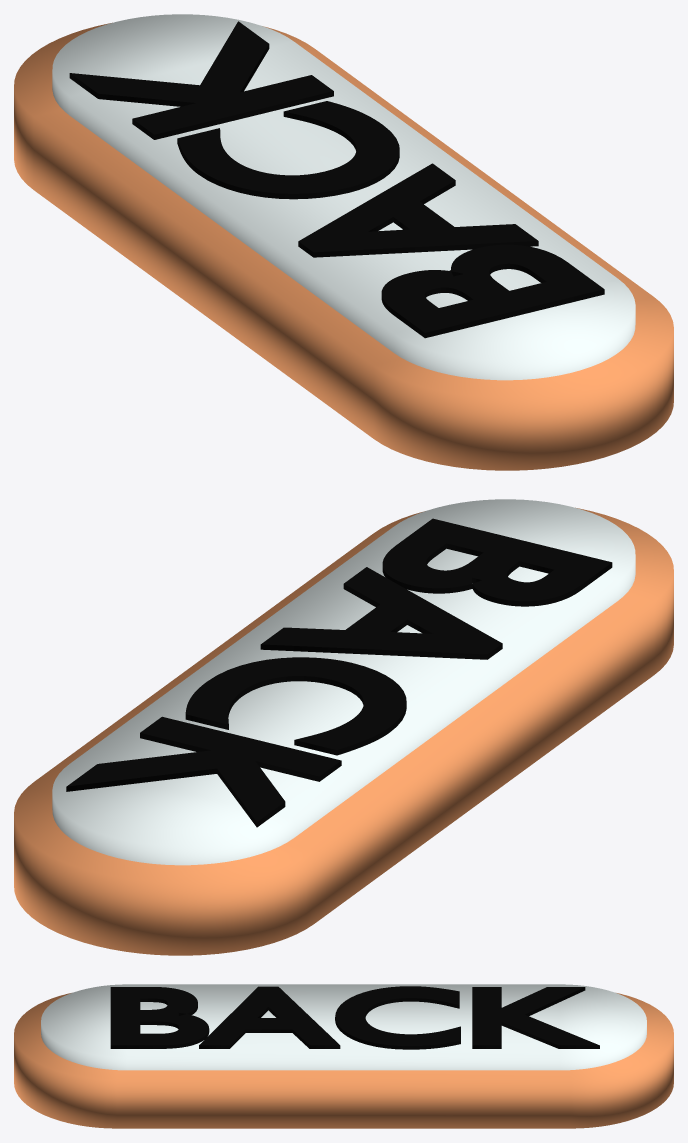
The model's file is back.fbx.
The picture shows the model from 3 angles, top to bottom: view 1: azimuth 30°, elevation 25°; view 2: azimuth 150°, elevation 25°; view 3: azimuth 270°, elevation 25°; orthographic projection. The views are drawn at different scales.
Parts seen in each view (by area): view 1: obj_0.006, obj_0.007, t.003; view 2: obj_0.006, obj_0.007, t.003; view 3: obj_0.006, obj_0.007, t.003.
Part boxes in pixels (bbox=[...]): obj_0.006: bbox=[14, 22, 673, 470]; obj_0.007: bbox=[52, 14, 635, 380]; t.003: bbox=[69, 21, 604, 338]; obj_0.006: bbox=[14, 507, 673, 955]; obj_0.007: bbox=[52, 499, 635, 865]; t.003: bbox=[66, 518, 612, 827]; obj_0.006: bbox=[14, 993, 673, 1128]; obj_0.007: bbox=[41, 984, 646, 1070]; t.003: bbox=[110, 986, 599, 1049].
Size of the model in its own units: 200 by 66.74 by 610.
